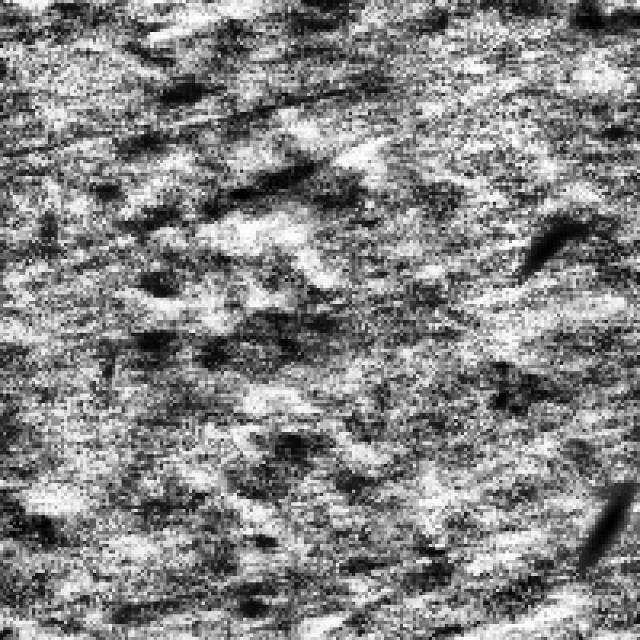Crazing: (80, 147, 301, 362)
